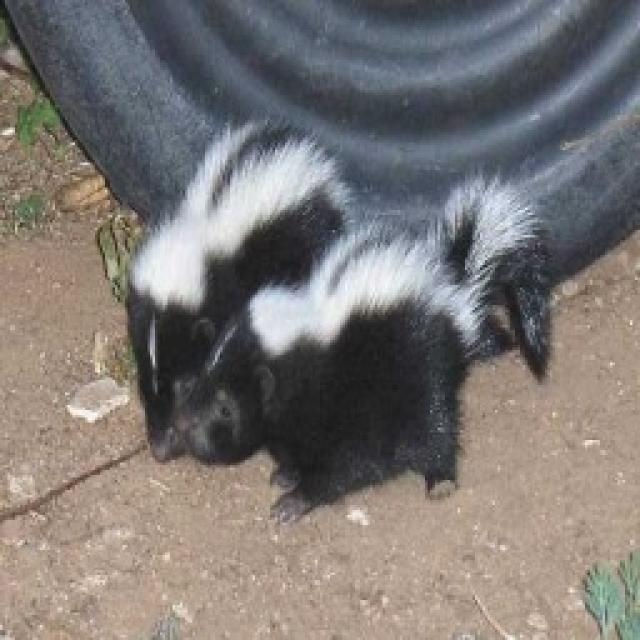Skunk: (174, 198, 580, 532)
